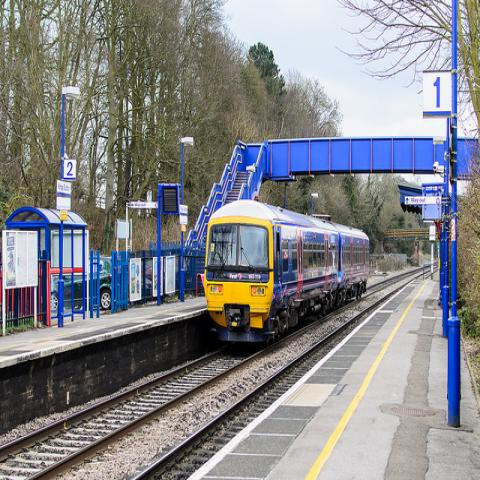car: (52, 257, 112, 312), (146, 263, 152, 281)
